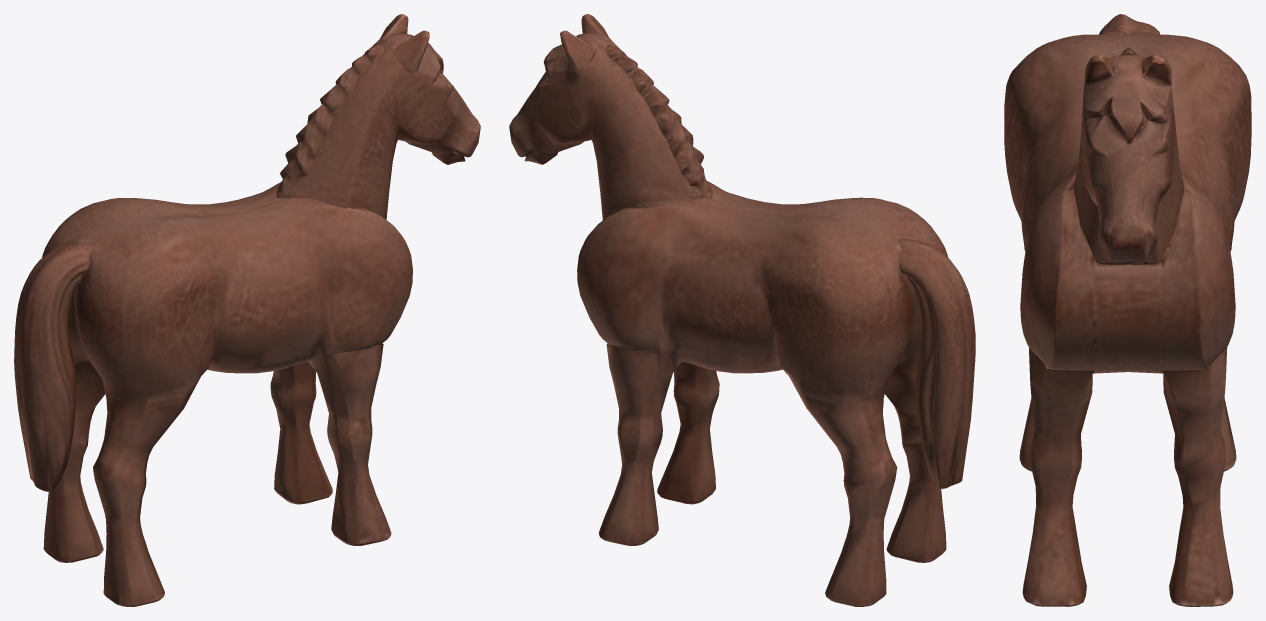
File: horse.glb
The picture shows the model from 3 angles, left to right: view 1: azimuth 30°, elevation 25°; view 2: azimuth 150°, elevation 25°; view 3: azimuth 270°, elevation 25°; orthographic projection. The views are drawn at different scales.
Parts seen in each view (by area): view 1: tripo_node_0104e538-5751-4c2e-a0fe-589fa07e474e; view 2: tripo_node_0104e538-5751-4c2e-a0fe-589fa07e474e; view 3: tripo_node_0104e538-5751-4c2e-a0fe-589fa07e474e.
Part boxes in pixels (x1,y1,x2,y2): tripo_node_0104e538-5751-4c2e-a0fe-589fa07e474e: (14,14,480,606); tripo_node_0104e538-5751-4c2e-a0fe-589fa07e474e: (509,14,975,606); tripo_node_0104e538-5751-4c2e-a0fe-589fa07e474e: (1004,14,1251,606).
Size of the model in its own units: 0.9995 by 0.9946 by 0.3755.
Materials: 1 (1 with a texture image).
